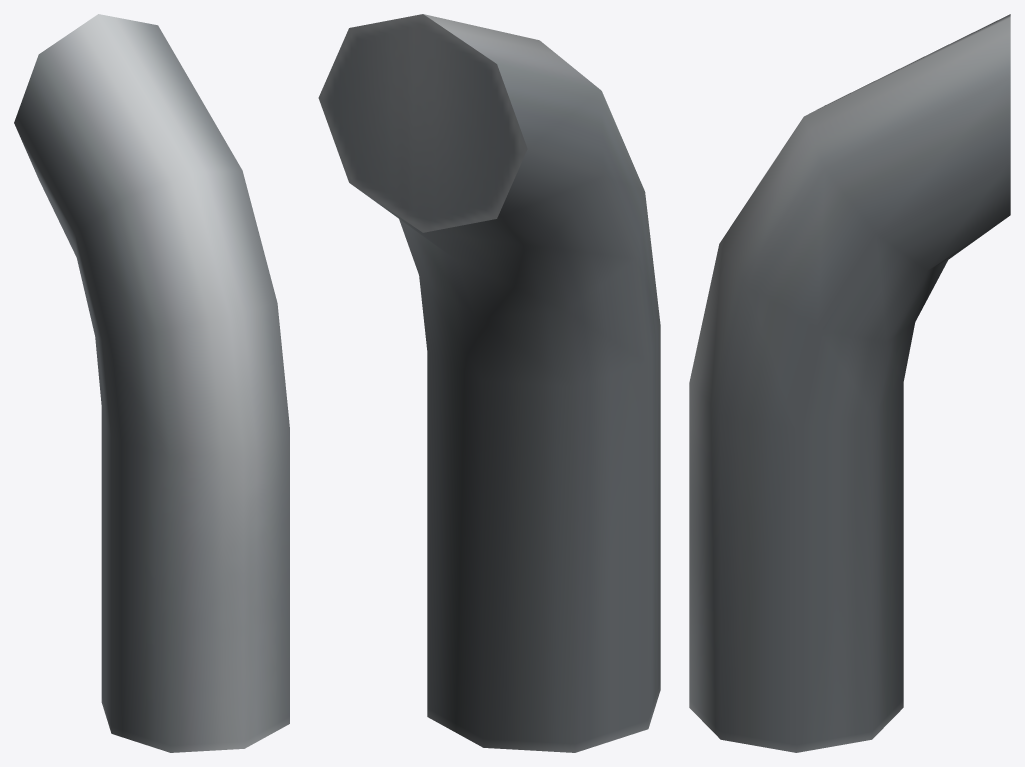
File: set_handrail_stairs_end.fbx
The picture shows the model from 3 angles, left to right: view 1: azimuth 30°, elevation 25°; view 2: azimuth 150°, elevation 25°; view 3: azimuth 270°, elevation 25°; orthographic projection. The views are drawn at different scales.
Visible parts, largest first — view 1: set_handrail_stairs_end; view 2: set_handrail_stairs_end; view 3: set_handrail_stairs_end.
Part boxes in pixels (bbox=[...]): set_handrail_stairs_end: bbox=[14, 14, 289, 752]; set_handrail_stairs_end: bbox=[318, 14, 660, 752]; set_handrail_stairs_end: bbox=[689, 14, 1010, 752].
Bounding box in the file's own units: 6.29 × 22.36 × 9.44.
